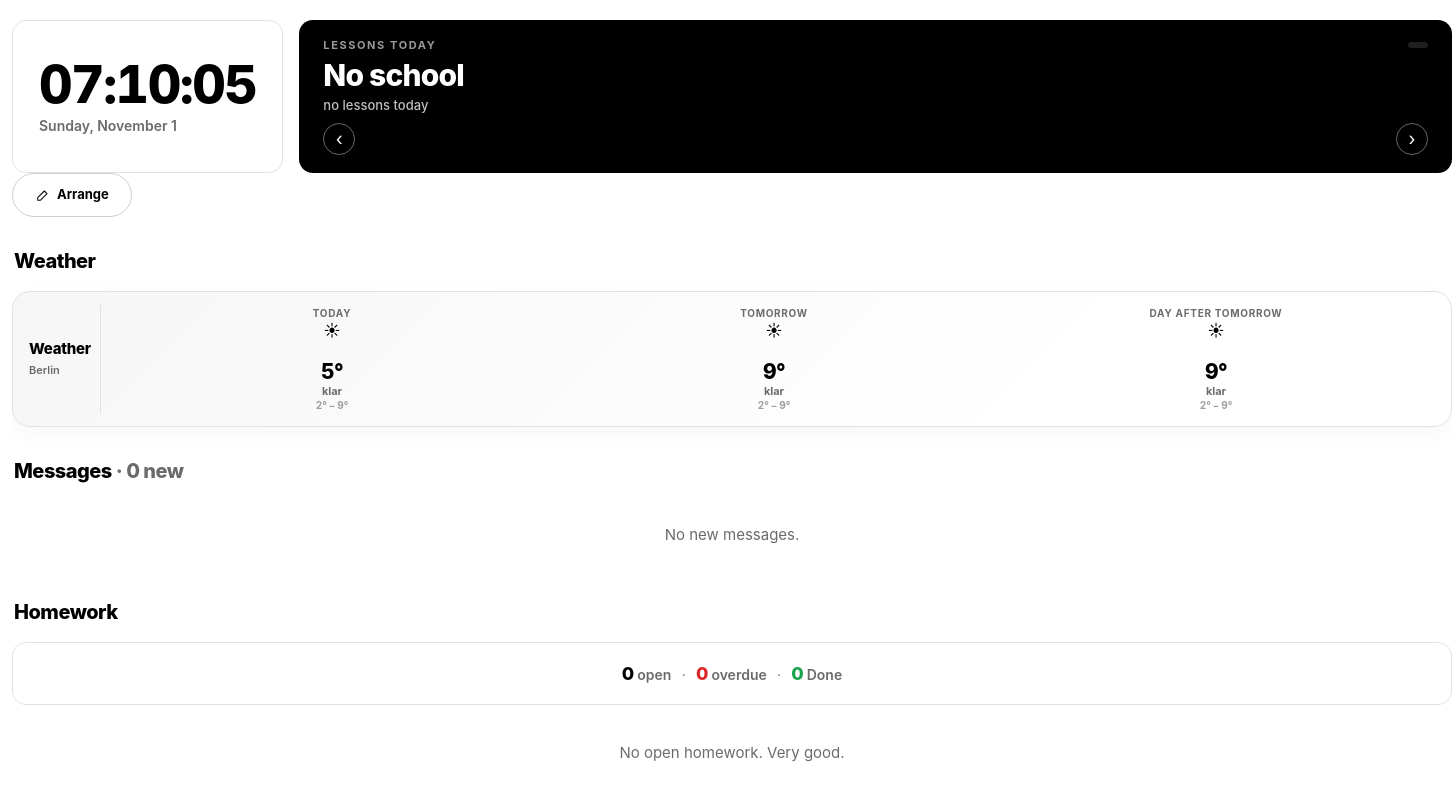
OverviewView – Layout-Editor › haengt einen ausgeblendeten Abschnitt aus, laesst aber seinen Platz im Editor stehen
The image size is (1452, 810).
Expected: the text "Berlin" is shown, [29,363,60,377]
Click the button "Arrange".
click(72, 194)  # box [12,172,132,216]
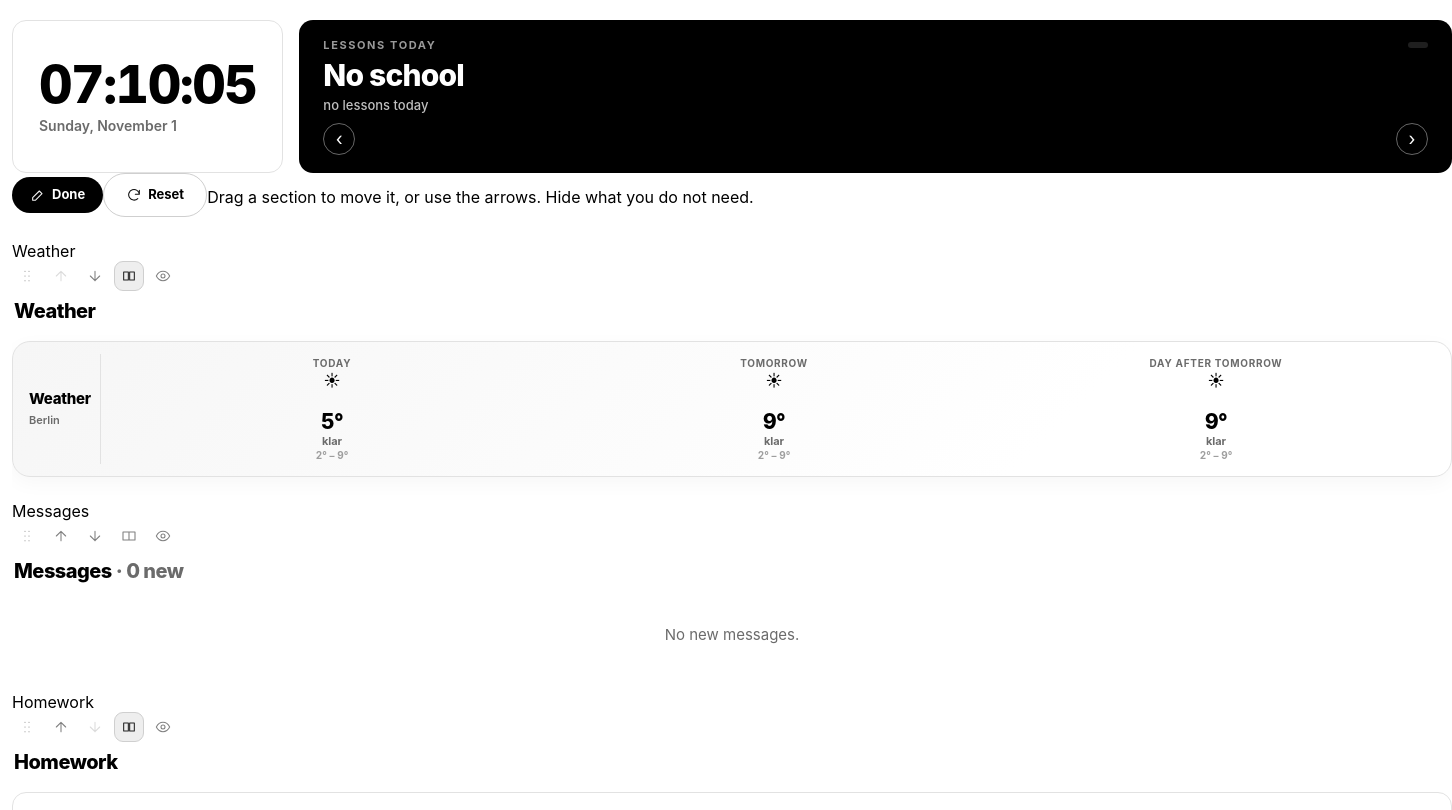
Click the button named "Hide section: Weather".
click(163, 276)  # box [148,260,178,290]
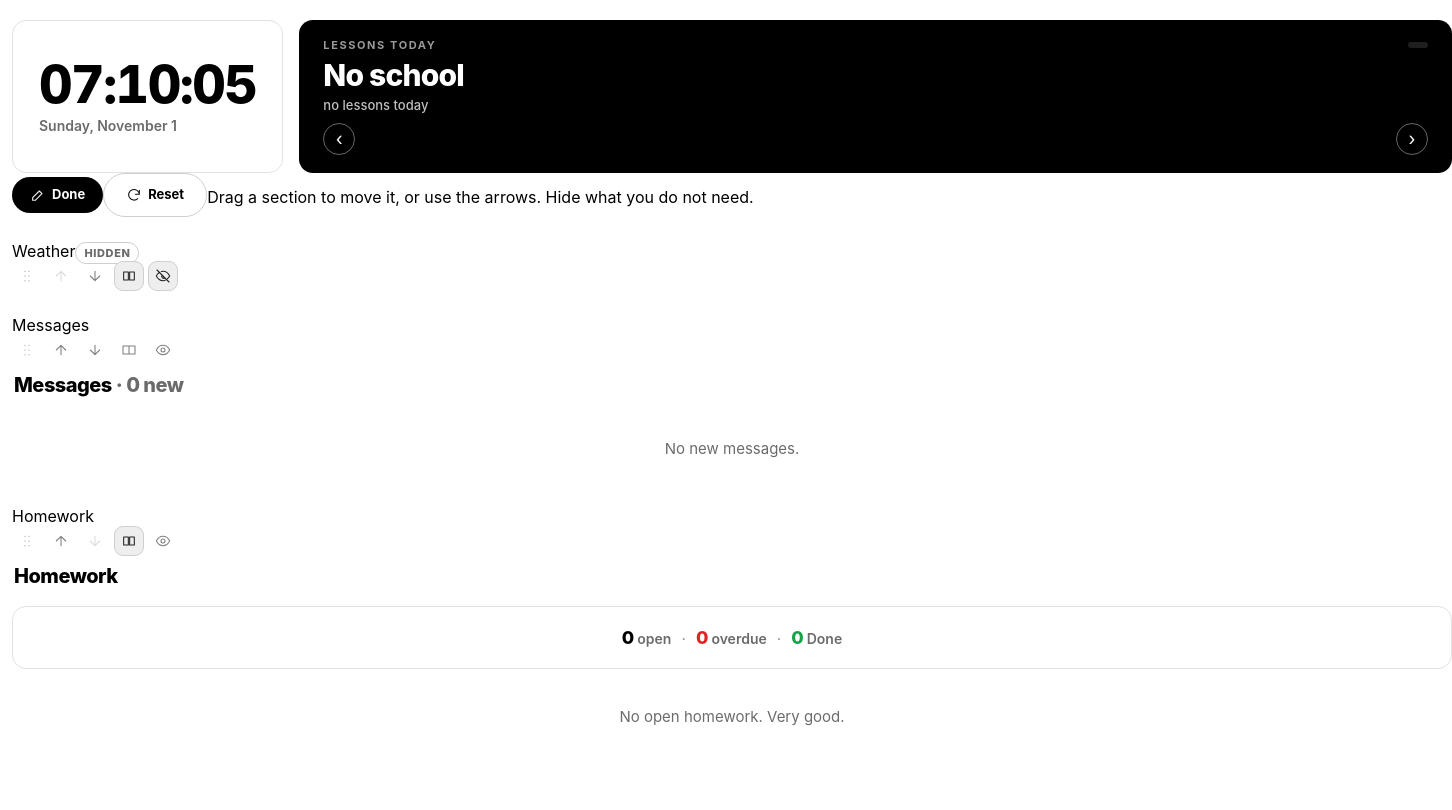
Expected: the number of elements with class "ov-slot" is 3, [12,240,178,290]; [12,314,799,458]; [12,506,1451,750]
Expected: the button named "Show section: Weather" is shown, [148,260,178,290]
